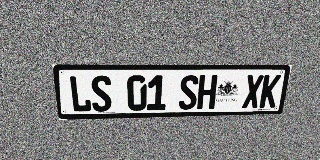0: (127, 75, 146, 111)
1: (147, 75, 166, 110)
H: (197, 75, 218, 109)
K: (259, 75, 281, 108)
L: (68, 75, 92, 112)
S: (90, 75, 112, 112), (178, 75, 199, 110)
X: (242, 75, 264, 108)
